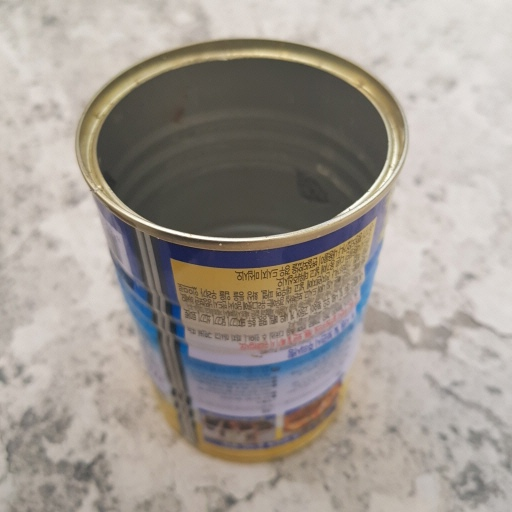Metal_1: (77, 38, 411, 466)
